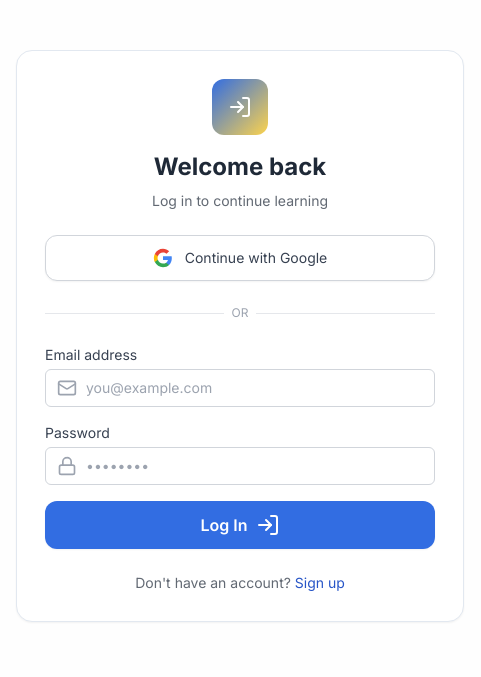
Scenario: Login.tsx › shows email error when submitted blank
Click the button "Log In" at (240, 525), box [45,501,435,549]
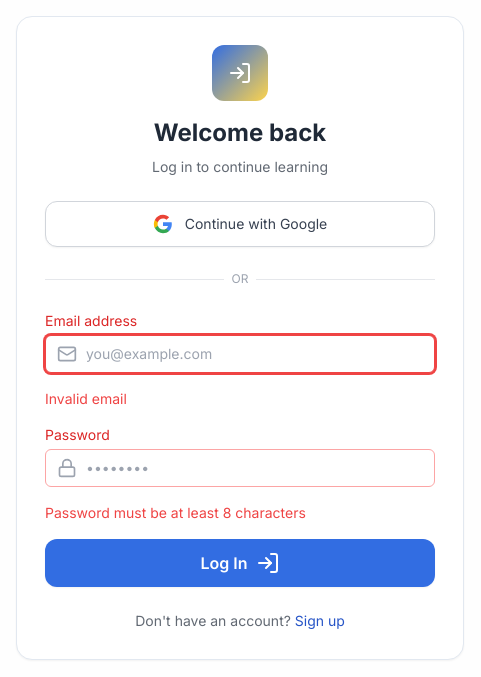
Now the text "Invalid email" is shown, box [45,390,127,407]
